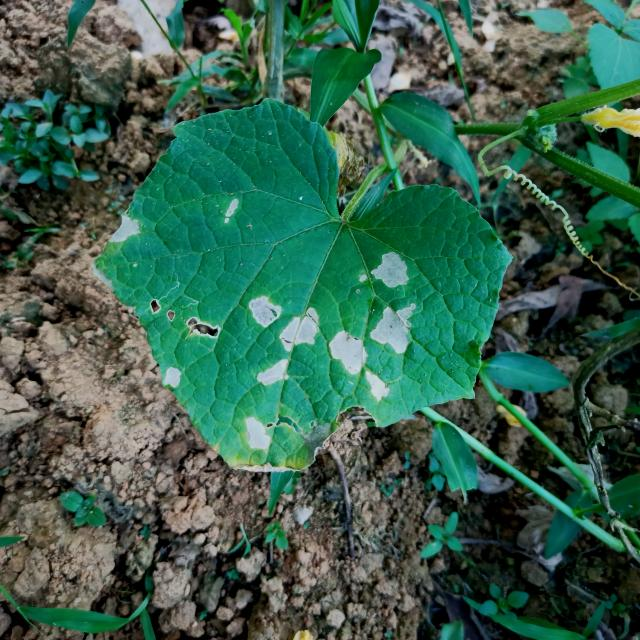disease_cucumber: (328, 328, 391, 402), (247, 295, 320, 352), (148, 296, 220, 340), (368, 301, 416, 355), (358, 250, 409, 288), (244, 414, 272, 451), (256, 356, 290, 386), (111, 215, 140, 242), (223, 195, 238, 225), (162, 366, 181, 388)
